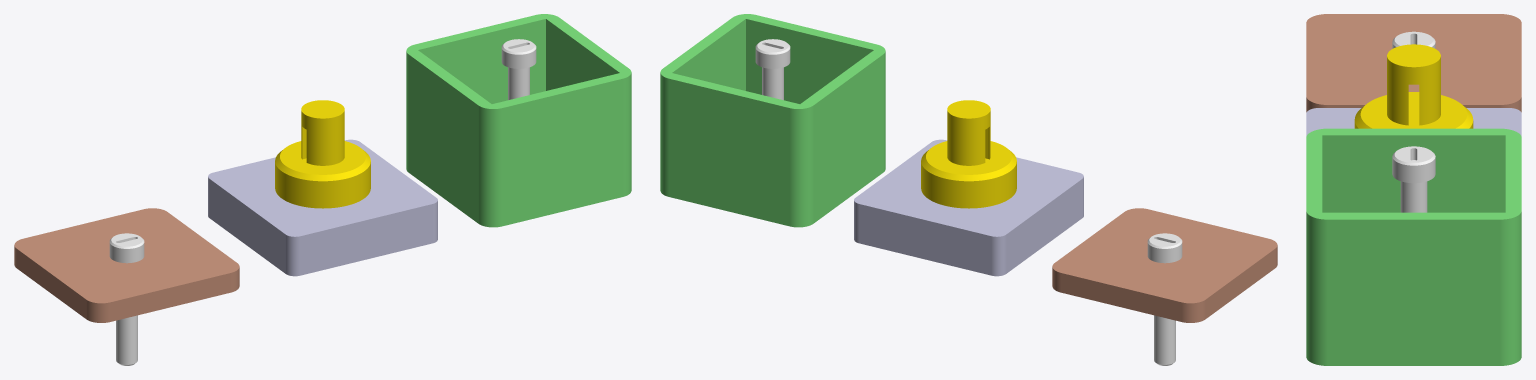
The model's file is kompleks_montaj_genis_kafa.gltf.
The picture shows the model from 3 angles, left to right: view 1: azimuth 30°, elevation 25°; view 2: azimuth 150°, elevation 25°; view 3: azimuth 270°, elevation 25°; orthographic projection. The views are drawn at different scales.
Visible parts, largest first — view 1: sag_yesil_part, orta_taban_part, sol_kahverengi_part, sari_baslik_part, sol_vida_part, sag_vida_part; view 2: sag_yesil_part, orta_taban_part, sol_kahverengi_part, sari_baslik_part, sol_vida_part, sag_vida_part; view 3: sag_yesil_part, sol_kahverengi_part, sari_baslik_part, sag_vida_part, orta_taban_part, sol_vida_part.
Part boxes in pixels (<box>): sag_yesil_part: <box>406,14,631,227</box>; orta_taban_part: <box>208,139,437,276</box>; sol_kahverengi_part: <box>14,208,239,322</box>; sari_baslik_part: <box>275,100,370,208</box>; sol_vida_part: <box>109,233,144,365</box>; sag_vida_part: <box>501,39,536,100</box>; sag_yesil_part: <box>660,14,885,227</box>; orta_taban_part: <box>854,139,1083,276</box>; sol_kahverengi_part: <box>1052,208,1277,322</box>; sari_baslik_part: <box>921,100,1016,208</box>; sol_vida_part: <box>1147,233,1182,365</box>; sag_vida_part: <box>755,39,790,100</box>; sag_yesil_part: <box>1306,128,1521,365</box>; sol_kahverengi_part: <box>1306,14,1521,112</box>; sari_baslik_part: <box>1354,44,1473,128</box>; sag_vida_part: <box>1392,146,1435,212</box>; orta_taban_part: <box>1306,108,1521,136</box>; sol_vida_part: <box>1392,31,1435,48</box>.
Size of the model in its own units: 144 by 56 by 40.
